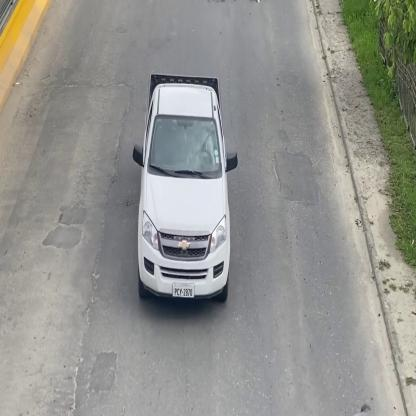Placa: (173, 284, 196, 299)
